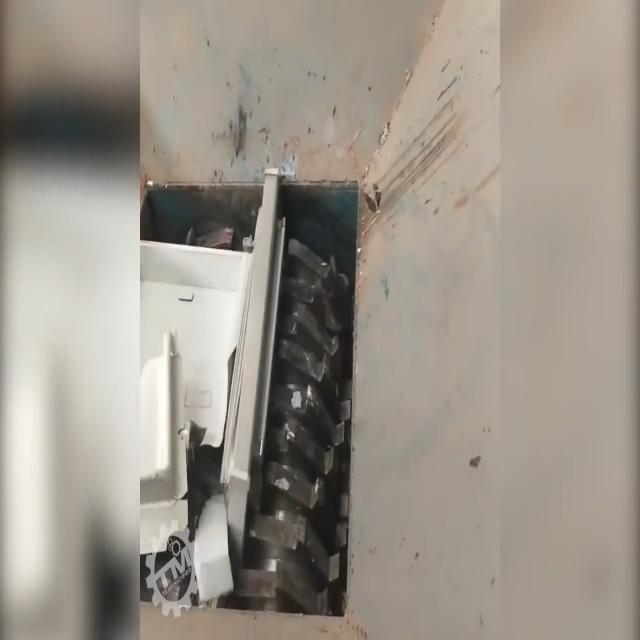Broyeur: (144, 150, 378, 637)
